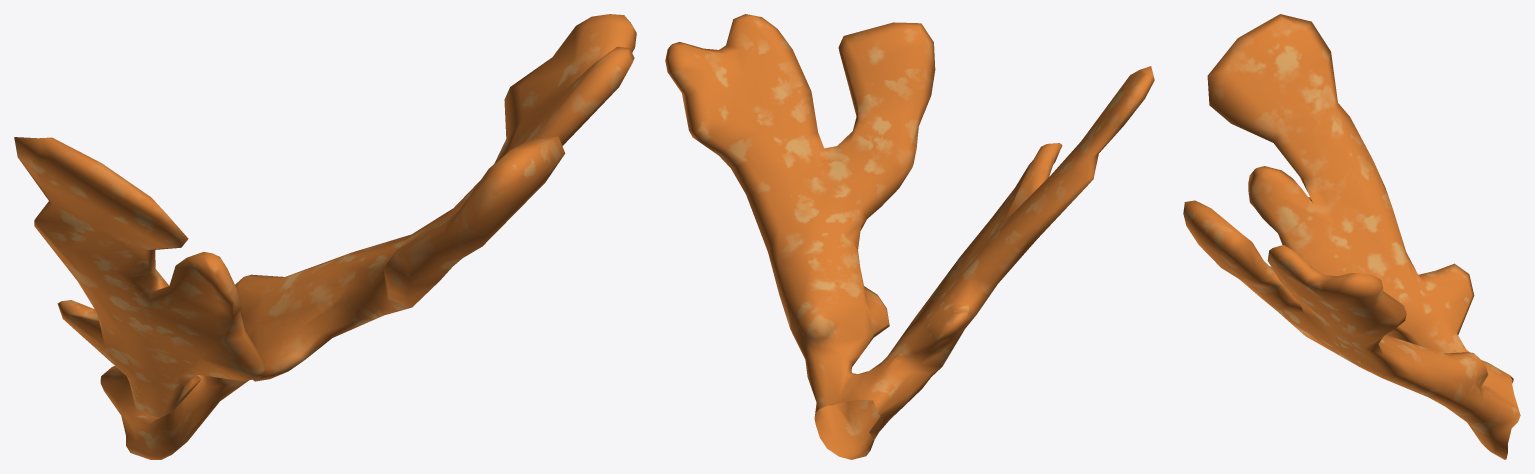
Rendered from elkhornCoral00a.fbx.
3 renders of one model, left to right at view 1: azimuth 30°, elevation 25°; view 2: azimuth 150°, elevation 25°; view 3: azimuth 270°, elevation 25°, orthographic. The views are drawn at different scales.
Parts seen in each view (by area): view 1: elkhornCoral00a; view 2: elkhornCoral00a; view 3: elkhornCoral00a.
Part boxes in pixels (x1=…): elkhornCoral00a: x1=14, y1=14, x2=636, y2=459; elkhornCoral00a: x1=665, y1=14, x2=1154, y2=459; elkhornCoral00a: x1=1183, y1=14, x2=1520, y2=459.
Size of the model in its own units: 1.41 by 1.04 by 0.9177.
1 material, 1 textured.
